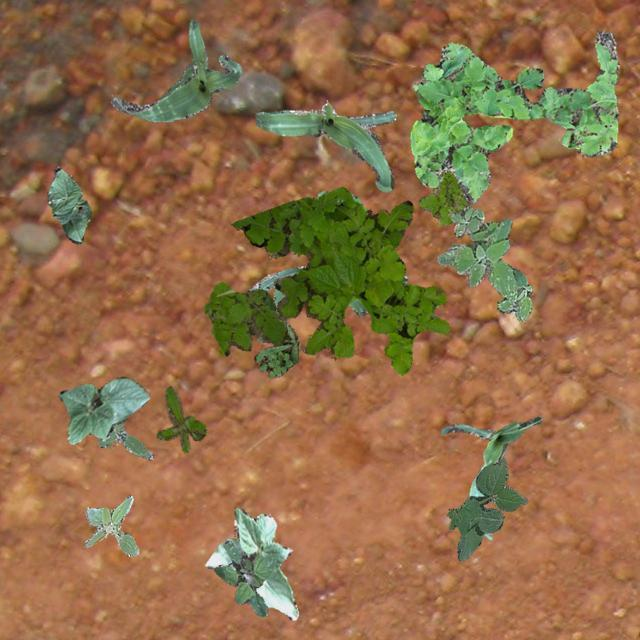crop: (254, 101, 396, 190), (441, 416, 542, 538), (204, 508, 298, 618), (110, 54, 242, 120), (246, 264, 406, 316), (56, 376, 148, 442), (158, 18, 206, 98), (46, 165, 90, 242)
weed: (231, 185, 448, 374), (410, 31, 618, 203), (438, 204, 530, 320), (446, 458, 526, 560), (204, 280, 286, 354), (212, 540, 274, 616), (84, 494, 138, 556), (156, 386, 204, 450), (418, 168, 470, 226), (252, 318, 298, 376), (96, 421, 152, 458), (316, 190, 366, 212)
